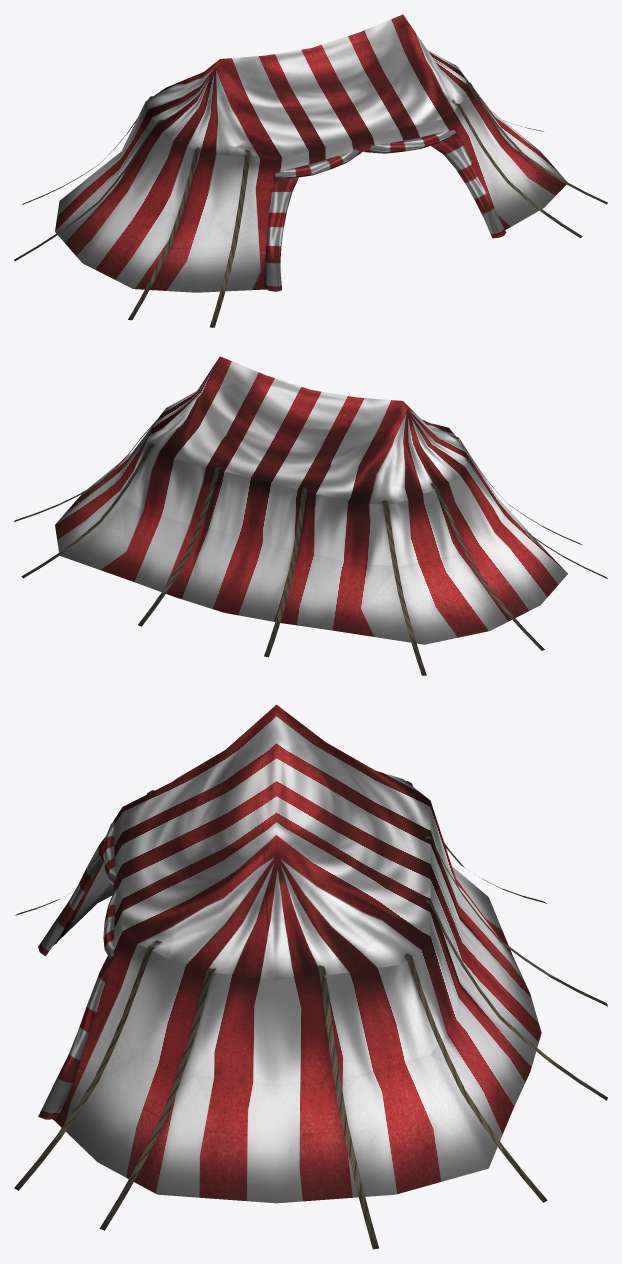
The model's file is Tent3_atlas.fbx.
3 views of the same model, one above another, from view 1: azimuth 30°, elevation 25°; view 2: azimuth 150°, elevation 25°; view 3: azimuth 270°, elevation 25° (orthographic). The views are drawn at different scales.
Parts seen in each view (by area): view 1: polySurface33; view 2: polySurface33; view 3: polySurface33.
Part boxes in pixels (box(x1,y1,x2,y2)): polySurface33: box(14, 14, 607, 327); polySurface33: box(14, 356, 607, 675); polySurface33: box(14, 704, 607, 1249).
Size of the model in its own units: 17.15 by 5.66 by 10.91.
